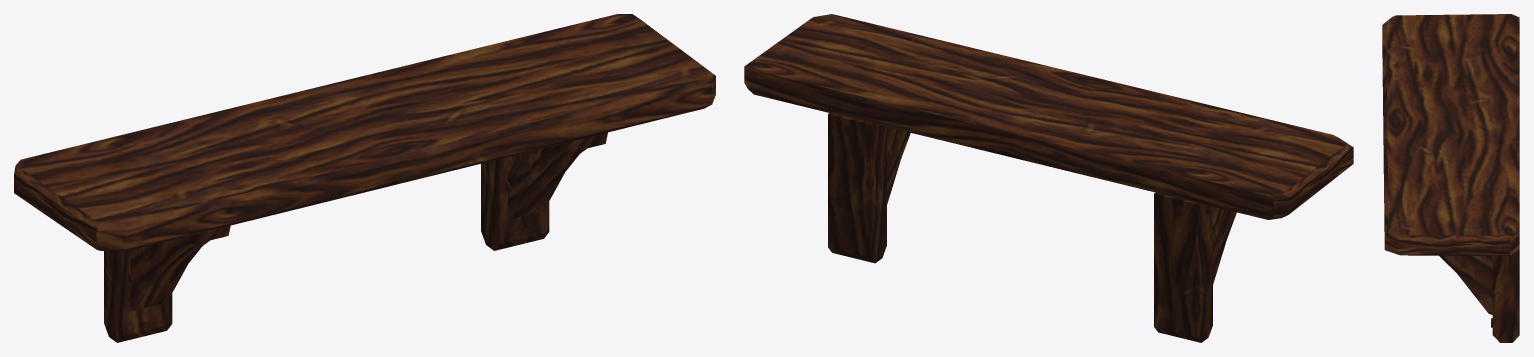
File: Prateleira-Avulsa.glb
3 renders of one model, left to right at view 1: azimuth 30°, elevation 25°; view 2: azimuth 150°, elevation 25°; view 3: azimuth 270°, elevation 25°, orthographic. The views are drawn at different scales.
Parts seen in each view (by area): view 1: Tampo, Mãos francesas, Placas de parede; view 2: Tampo, Placas de parede, Mãos francesas; view 3: Tampo, Placas de parede, Mãos francesas.
Part boxes in pixels (bbox=[...]): Tampo: bbox=[14, 14, 715, 250]; Mãos francesas: bbox=[130, 132, 607, 310]; Placas de parede: bbox=[104, 157, 549, 342]; Tampo: bbox=[744, 14, 1353, 219]; Placas de parede: bbox=[828, 113, 1212, 342]; Mãos francesas: bbox=[887, 127, 1236, 284]; Tampo: bbox=[1382, 14, 1519, 255]; Placas de parede: bbox=[1492, 252, 1519, 342]; Mãos francesas: bbox=[1439, 255, 1492, 314].
Bounding box in the file's own units: 1.1 × 0.324 × 0.283.
2 materials, 2 textured.
